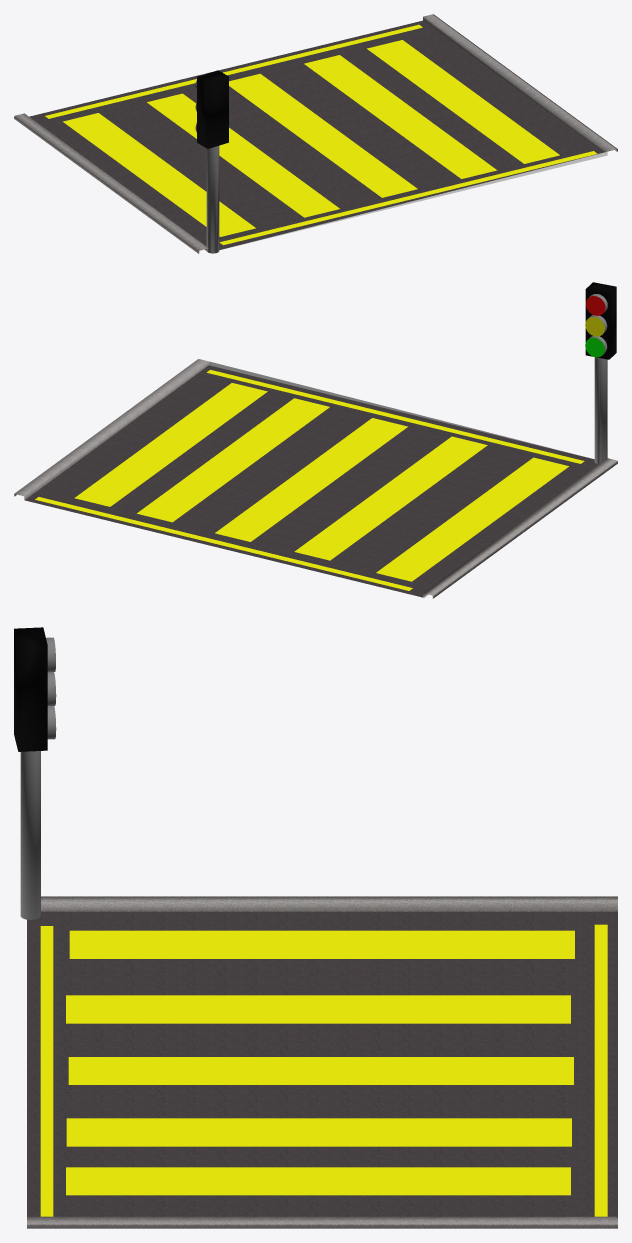
3 renders of one model, top to bottom at view 1: azimuth 30°, elevation 25°; view 2: azimuth 150°, elevation 25°; view 3: azimuth 270°, elevation 25°, orthographic. The views are drawn at different scales.
Parts seen in each view (by area): view 1: Color_005, Color_000, Concrete_Aggregate_Sm, Color_008, Color_004, Color_E02; view 2: Color_005, Color_000, Concrete_Aggregate_Sm, Color_004, Color_008, Color_E02; view 3: Color_005, Color_000, Concrete_Aggregate_Sm, Color_004, Color_008.
Boxes of the visible parts, x1=… form: Color_005: x1=29, y1=20, x2=602, y2=249; Color_000: x1=45, y1=24, x2=597, y2=245; Concrete_Aggregate_Sm: x1=14, y1=14, x2=617, y2=253; Color_008: x1=197, y1=70, x2=228, y2=148; Color_004: x1=195, y1=73, x2=219, y2=253; Color_E02: x1=225, y1=151, x2=607, y2=248; Color_005: x1=25, y1=365, x2=598, y2=597; Color_000: x1=35, y1=317, x2=604, y2=590; Concrete_Aggregate_Sm: x1=14, y1=359, x2=617, y2=598; Color_004: x1=589, y1=294, x2=607, y2=464; Color_008: x1=585, y1=282, x2=616, y2=359; Color_E02: x1=209, y1=361, x2=592, y2=458; Color_005: x1=27, y1=911, x2=617, y2=1216; Color_000: x1=40, y1=924, x2=607, y2=1216; Concrete_Aggregate_Sm: x1=27, y1=896, x2=617, y2=1228; Color_004: x1=20, y1=637, x2=56, y2=919; Color_008: x1=14, y1=627, x2=47, y2=751.
Bounding box in the file's own units: 302 × 236 × 121.
9 materials, 9 textured.
